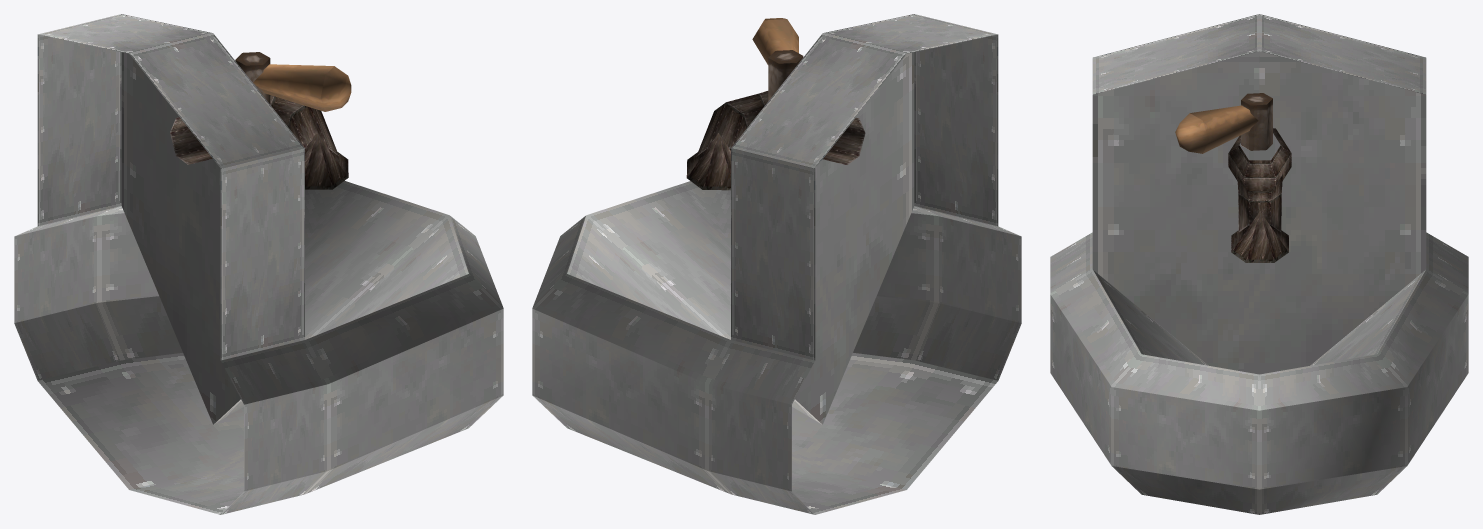
Rendered from sink01.obj.
3 views of the same model, side by side, from view 1: azimuth 30°, elevation 25°; view 2: azimuth 150°, elevation 25°; view 3: azimuth 270°, elevation 25° (orthographic). The views are drawn at different scales.
Visible parts, largest first — view 1: SINK010, SINK012, SINK011; view 2: SINK010, SINK012, SINK011; view 3: SINK010, SINK012, SINK011.
Boxes of the visible parts, bbox=[...] form: SINK010: bbox=[14, 14, 503, 514]; SINK012: bbox=[170, 95, 348, 189]; SINK011: bbox=[235, 52, 351, 111]; SINK010: bbox=[532, 14, 1021, 514]; SINK012: bbox=[686, 91, 865, 190]; SINK011: bbox=[752, 18, 803, 100]; SINK010: bbox=[1050, 14, 1468, 514]; SINK012: bbox=[1228, 128, 1291, 262]; SINK011: bbox=[1175, 93, 1272, 153].
Size of the model in its own units: 2.74 by 3.29 by 3.15.
3 materials, 3 textured.
